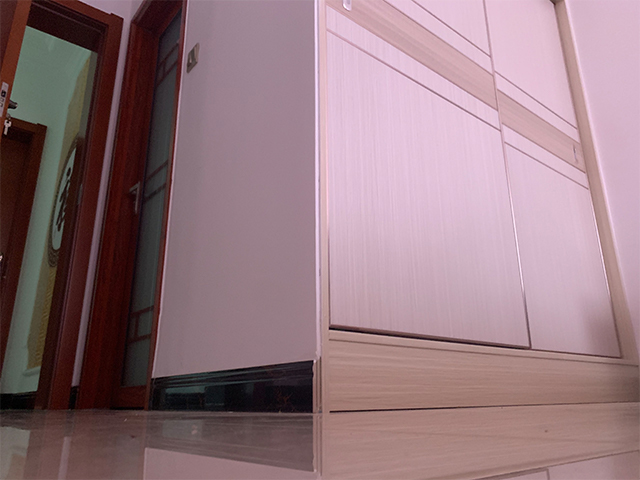cabinet: (314, 1, 640, 415)
